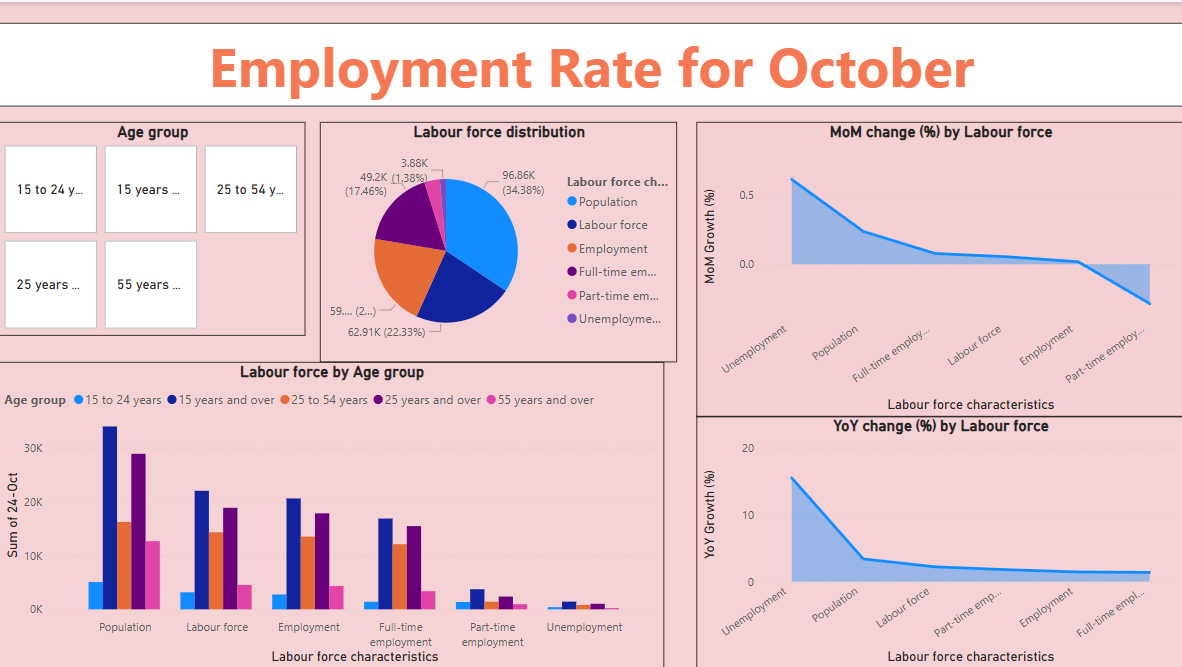

What the dashboard file says about the page in this screenshot:
{"tool":"powerbi","page":{"name":"Employment Rate","canvas":[1280,720],"ordinal":3},"visuals":[{"type":"advancedSlicerVisual","fields":{"Values":["employment.Age group"]},"box":[0,129,330.7,230.5],"z":0},{"type":"clusteredColumnChart","title":"Labour force by Age group","fields":{"Y":["Sum(employment.24-Oct)"],"Category":["employment.Labour force characteristics"],"Series":["employment.Age group"]},"box":[0,388.3,717.7,332.1],"z":1000},{"type":"stackedAreaChart","title":"MoM change (%) by Labour force","fields":{"Category":["employment.Labour force characteristics"],"Y":["employment.MoM Growth (%)"]},"box":[753.3,129,526.9,318.4],"z":2000},{"type":"pieChart","title":"Labour force distribution","fields":{"Y":["Sum(employment.24-Oct)"],"Category":["employment.Labour force characteristics"]},"box":[347.2,129,385.6,259.3],"z":3000},{"type":"areaChart","title":"YoY change (%) by Labour force","fields":{"Category":["employment.Labour force characteristics"],"Y":["employment.YoY Growth (%)"]},"box":[753.3,447.3,526.9,273.1],"z":4000},{"type":"textbox","box":[0,22,1280,90],"z":5000}]}

Visuals, with their boxes in screenshot pixels (x1, y1, x2, y2), scaled from the page's 1280x720 canvas onto the 1182x667 screenshot:
advancedSlicerVisual - employment.Age group: select_region(0, 120, 305, 333)
"Labour force by Age group" clusteredColumnChart: select_region(0, 360, 663, 666)
"MoM change (%) by Labour force" stackedAreaChart: select_region(696, 120, 1181, 414)
"Labour force distribution" pieChart: select_region(321, 120, 677, 360)
"YoY change (%) by Labour force" areaChart: select_region(696, 414, 1181, 666)
textbox: select_region(0, 20, 1181, 104)
